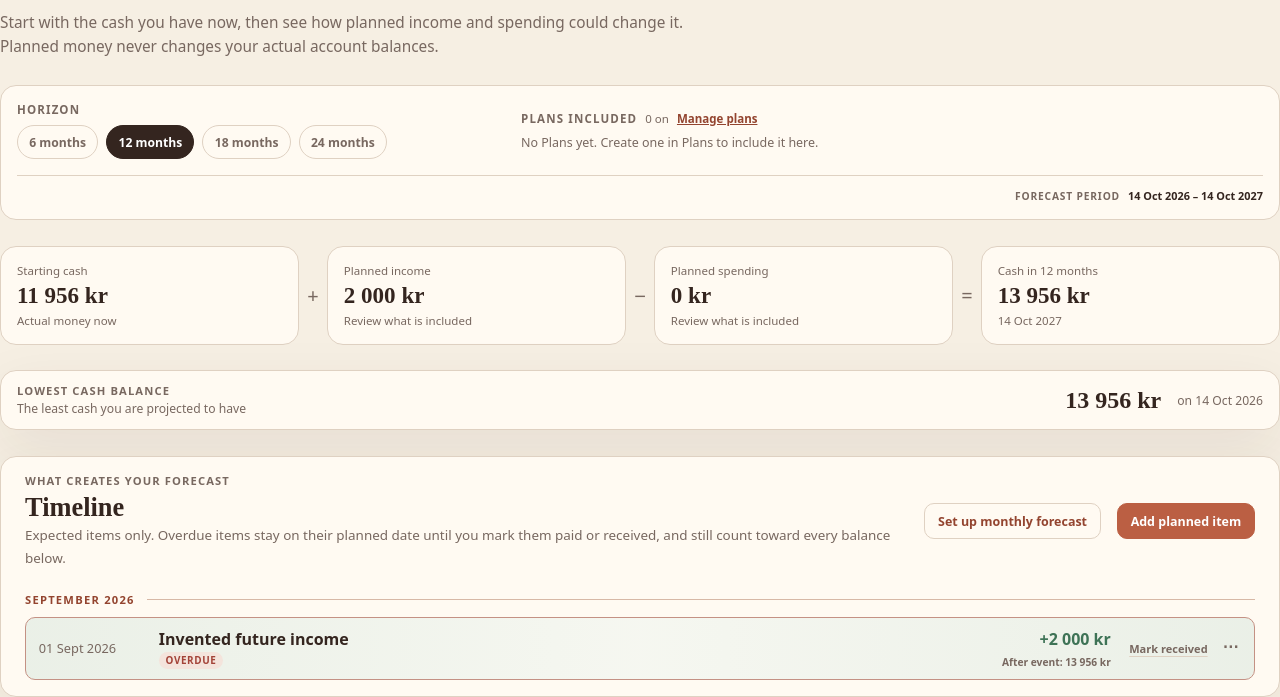
Phase 4 actual-money workflows › keeps migrated plans visibly separate from actual money
The image size is (1280, 697).
(page scrolled)
Expected: the text "Invented future income" is shown, top-left (159, 628), bottom-right (349, 650)
Expected: the text "never changes your actual account balances" is shown, top-left (0, 12), bottom-right (683, 57)
Click the button "Mark received": {"x": 1168, "y": 648} top-left (1123, 636), bottom-right (1214, 660)
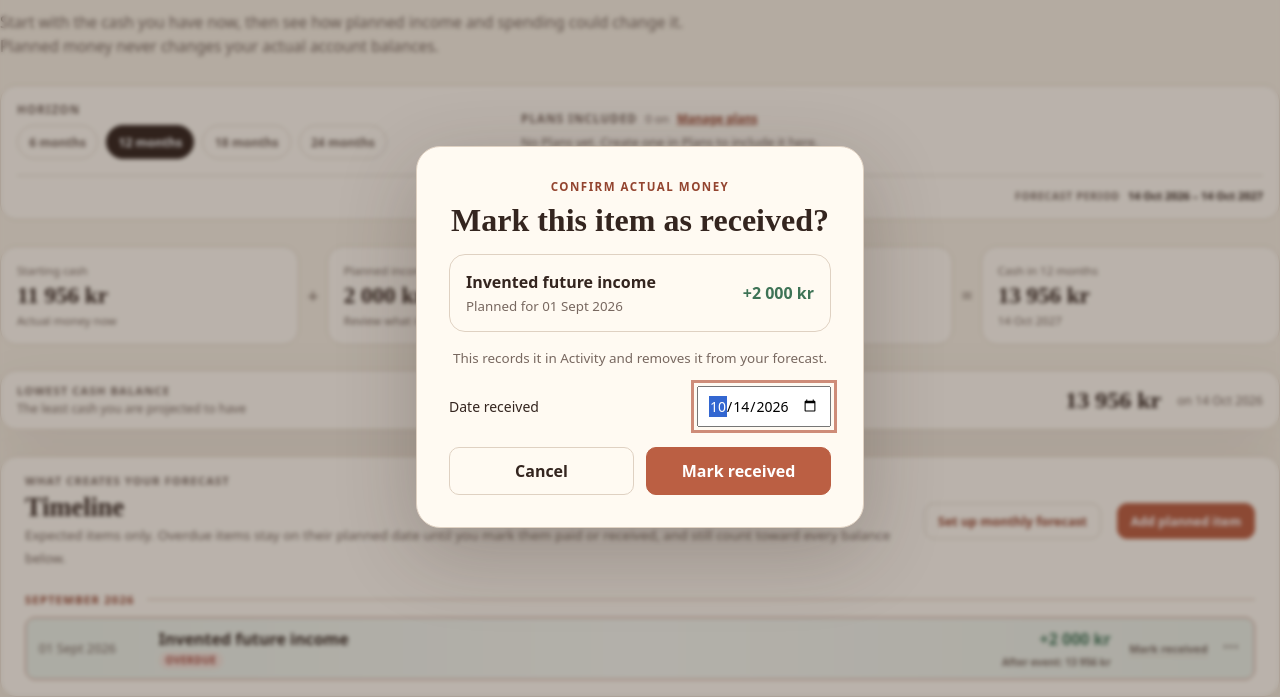
Expected: the heading "Mark this item as received?" is shown, top-left (449, 202), bottom-right (831, 238)
Expected: the text "+2 000 kr" is shown, top-left (743, 282), bottom-right (814, 304)
Expected: the text "records it in Activity" is shown, top-left (453, 350), bottom-right (823, 368)
Click the button "Cancel": {"x": 542, "y": 471} top-left (449, 447), bottom-right (634, 495)
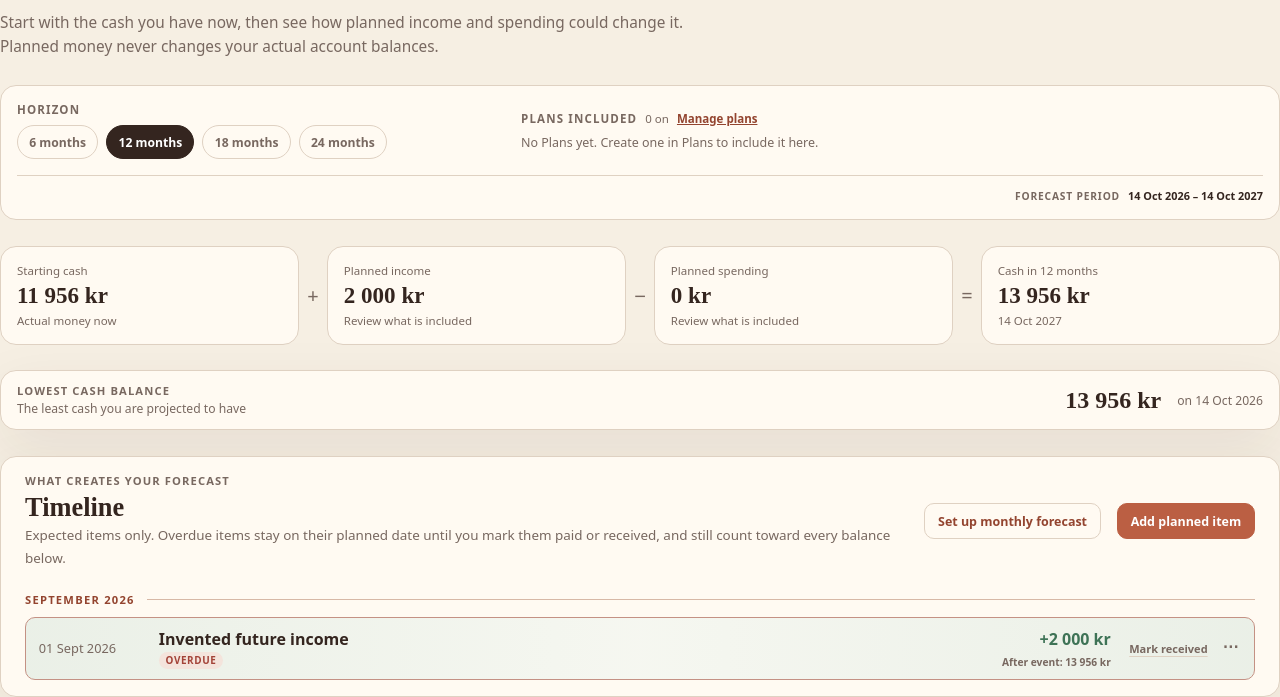
Click the button named "More actions for Invented future income": {"x": 1230, "y": 648} top-left (1220, 638), bottom-right (1241, 659)
(page scrolled)
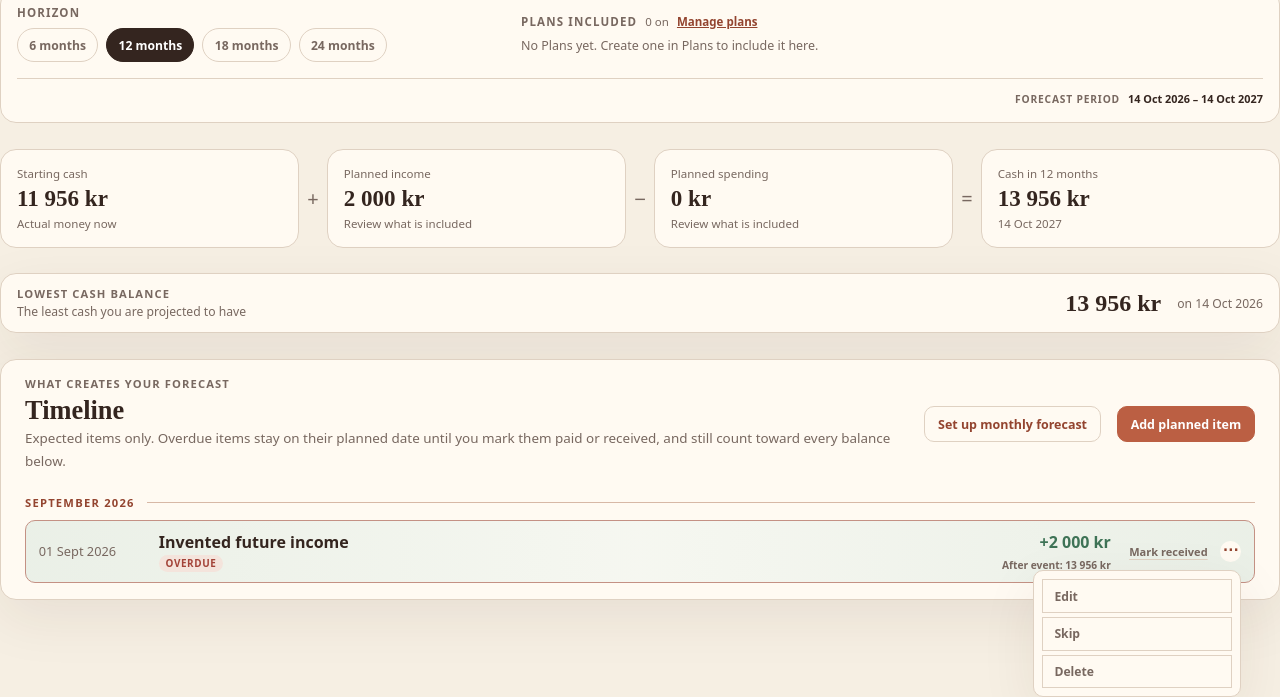
Expected: the button "Edit" is shown, top-left (1042, 579), bottom-right (1232, 613)
Expected: the button "Skip" is shown, top-left (1042, 617), bottom-right (1232, 651)
Expected: the button "Delete" is shown, top-left (1042, 655), bottom-right (1232, 688)
